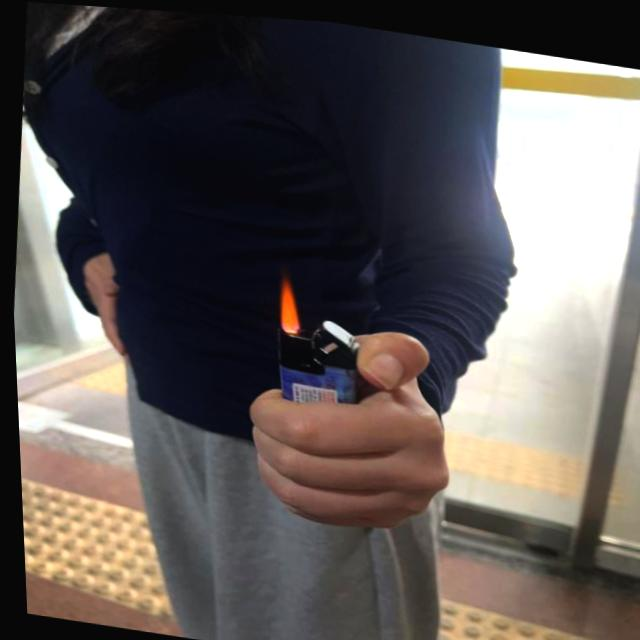Fire: (272, 272, 303, 325)
